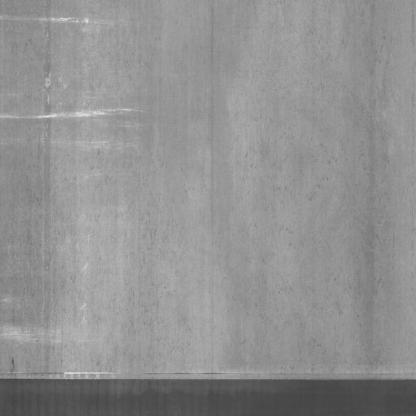welding_line: (1, 362, 416, 396)
